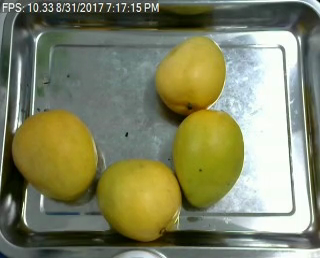Mango: (10, 110, 98, 201), (172, 108, 244, 207), (98, 158, 183, 241), (156, 34, 227, 111)
